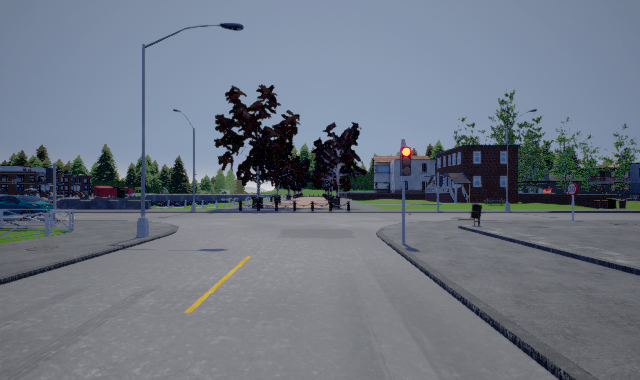traffic_light: (400, 141, 411, 182)
traffic_sign: (567, 183, 578, 195)
vehicle: (1, 194, 55, 223)
